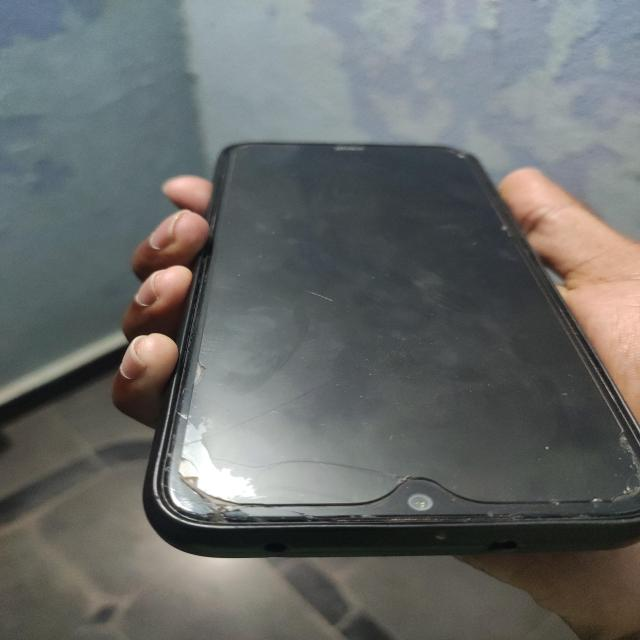mobile: (64, 104, 619, 592)
